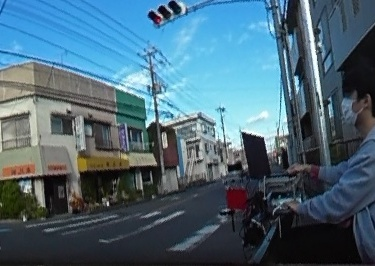person: (304, 63, 375, 266)
